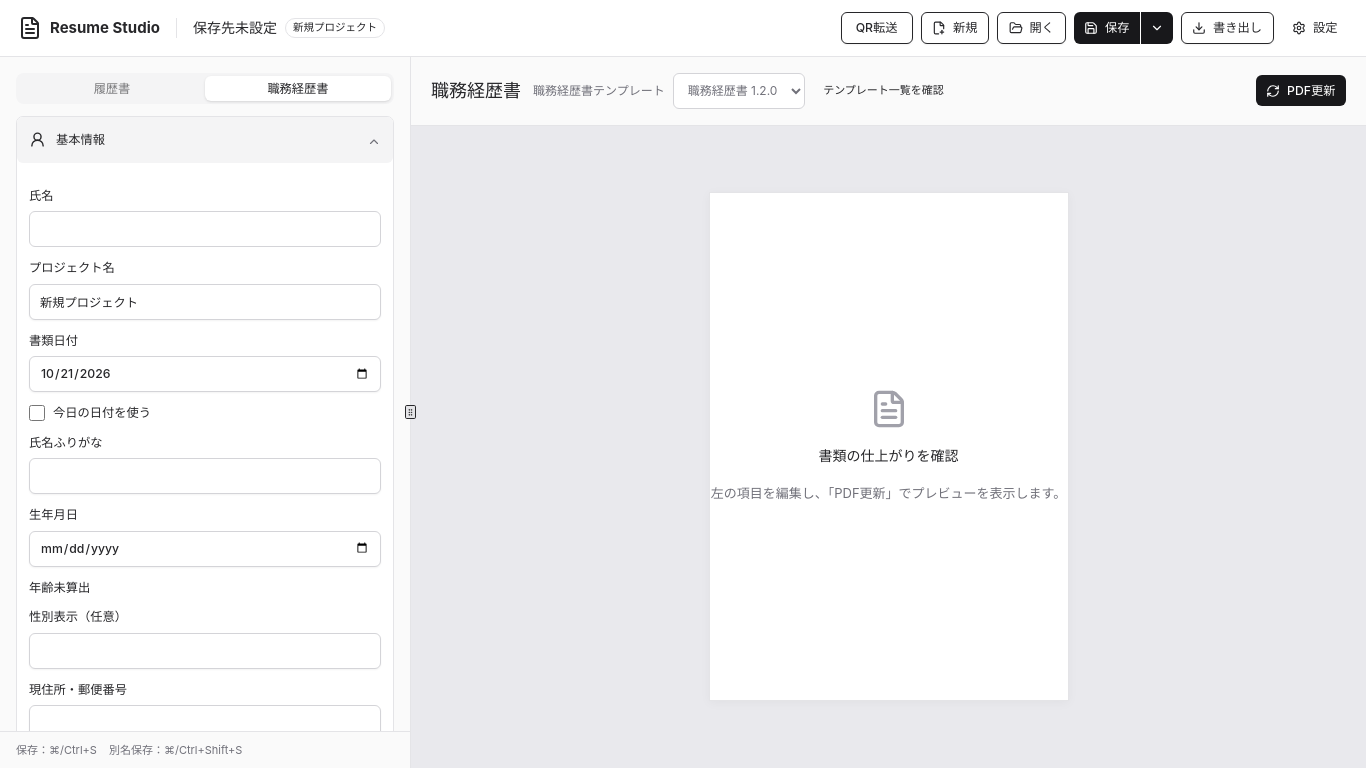
Test: 職務経歴書の生成では選択中の書類種別をIPCへ渡す
This screenshot has width=1366, height=768.
Click the button with aria-label "職務経歴書PDF更新" at (1301, 91), box [1256, 75, 1346, 106]
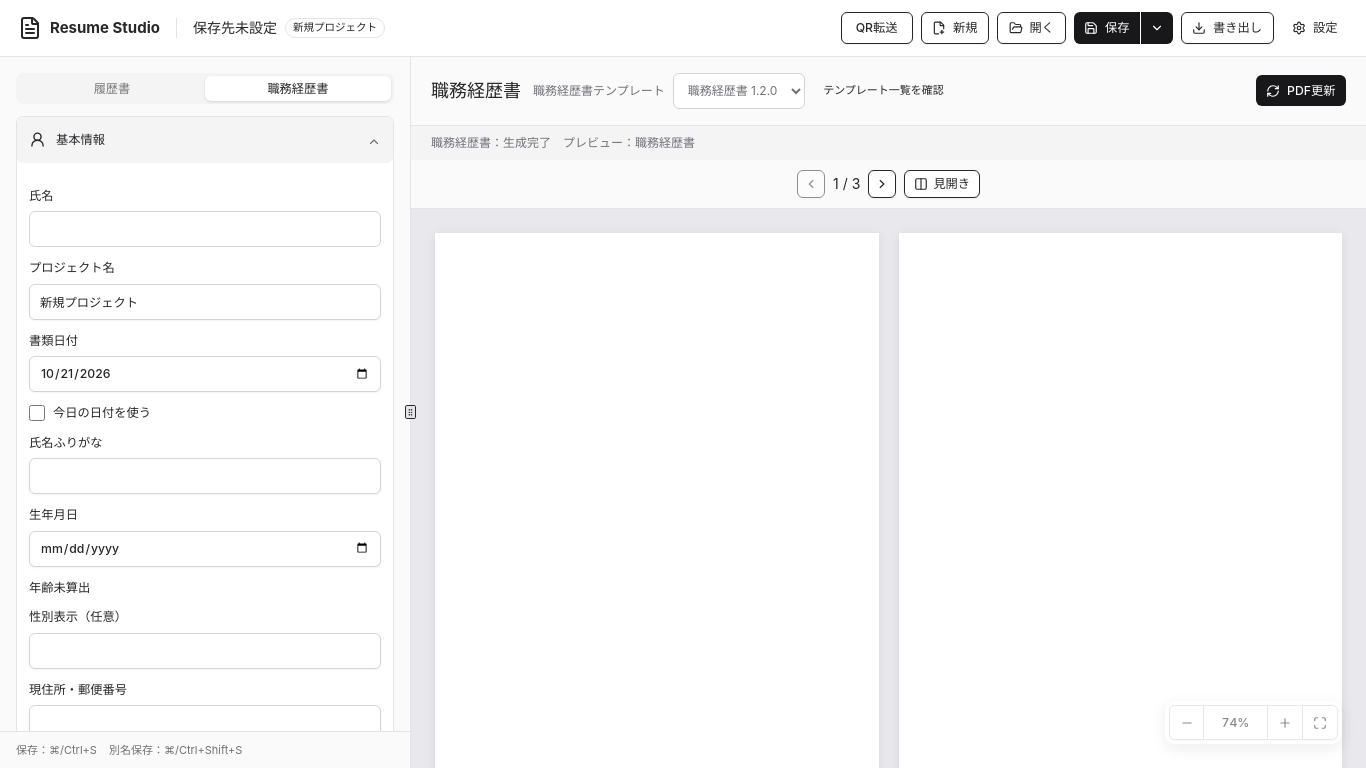
Expected: the text "プレビュー：職務経歴書" is shown, [563, 134, 695, 152]
